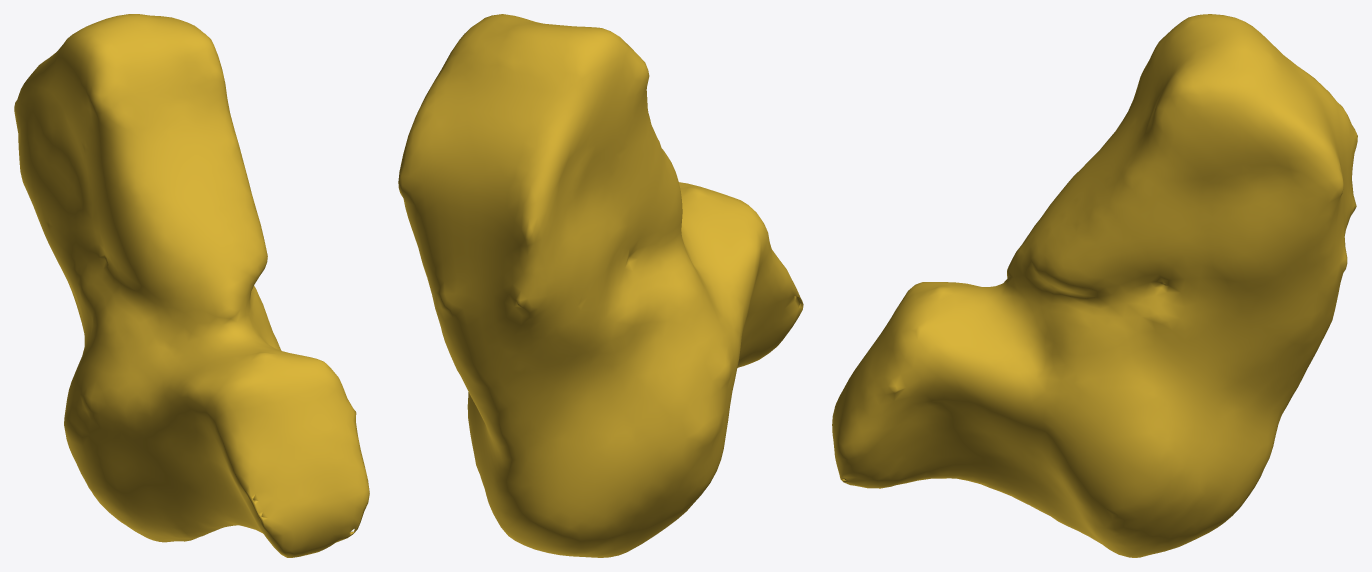
File: cerebellum_vermis.glb
The picture shows the model from 3 angles, left to right: view 1: azimuth 30°, elevation 25°; view 2: azimuth 150°, elevation 25°; view 3: azimuth 270°, elevation 25°; orthographic projection. The views are drawn at different scales.
Parts seen in each view (by area): view 1: Vermis Cerebeloso; view 2: Vermis Cerebeloso; view 3: Vermis Cerebeloso.
Part boxes in pixels (box(x1,y1,x2,y2)): Vermis Cerebeloso: box(14, 14, 369, 557); Vermis Cerebeloso: box(398, 14, 803, 557); Vermis Cerebeloso: box(832, 14, 1357, 557).
Size of the model in its own units: 0.5678 by 1.31 by 1.21.
